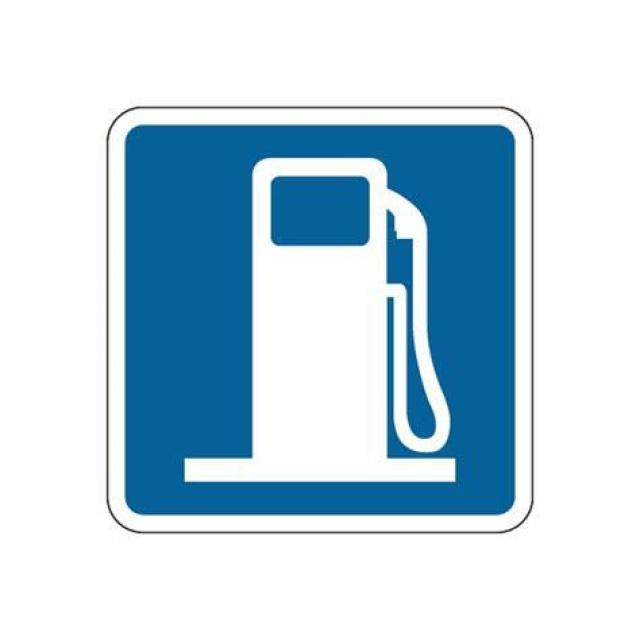petrol_station: (102, 105, 534, 533)
